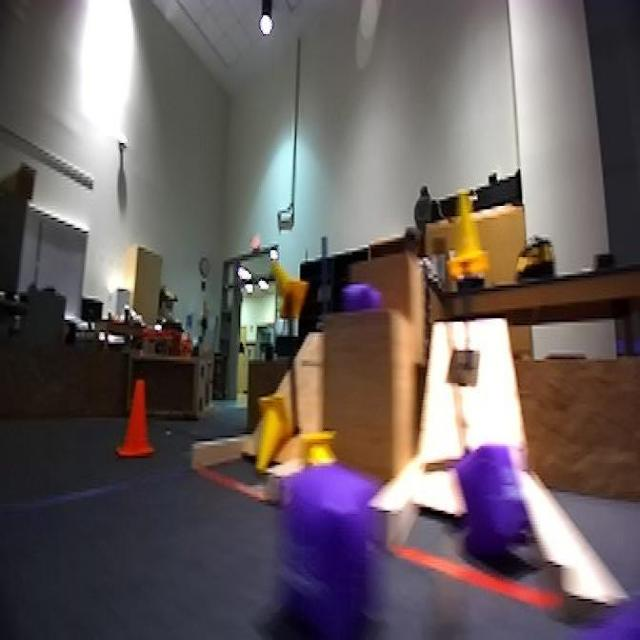frc_cone: (248, 384, 288, 452), (456, 201, 486, 277), (272, 265, 308, 327)
frc_cube: (286, 437, 414, 640), (474, 446, 532, 541), (543, 595, 640, 640), (342, 281, 388, 313)
